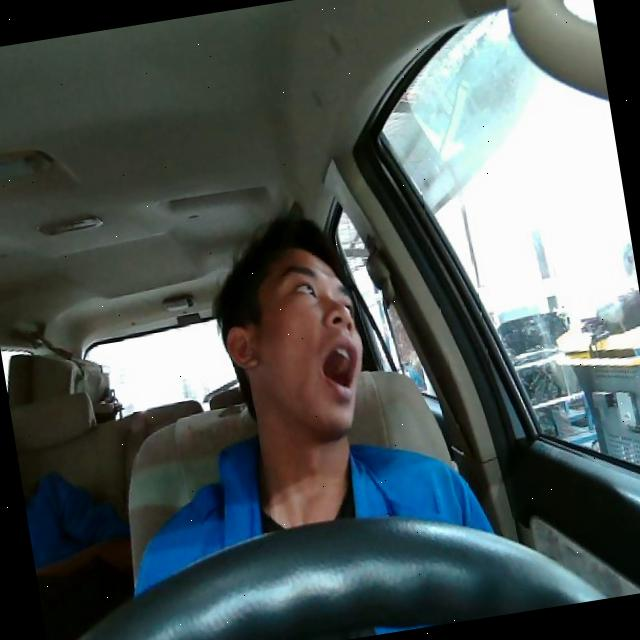yarning: (208, 237, 376, 451)
